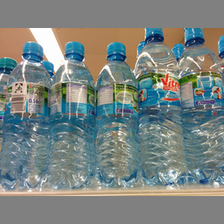water: (133, 28, 189, 191), (2, 41, 52, 192), (176, 28, 223, 187), (49, 40, 94, 191), (94, 41, 138, 190)
